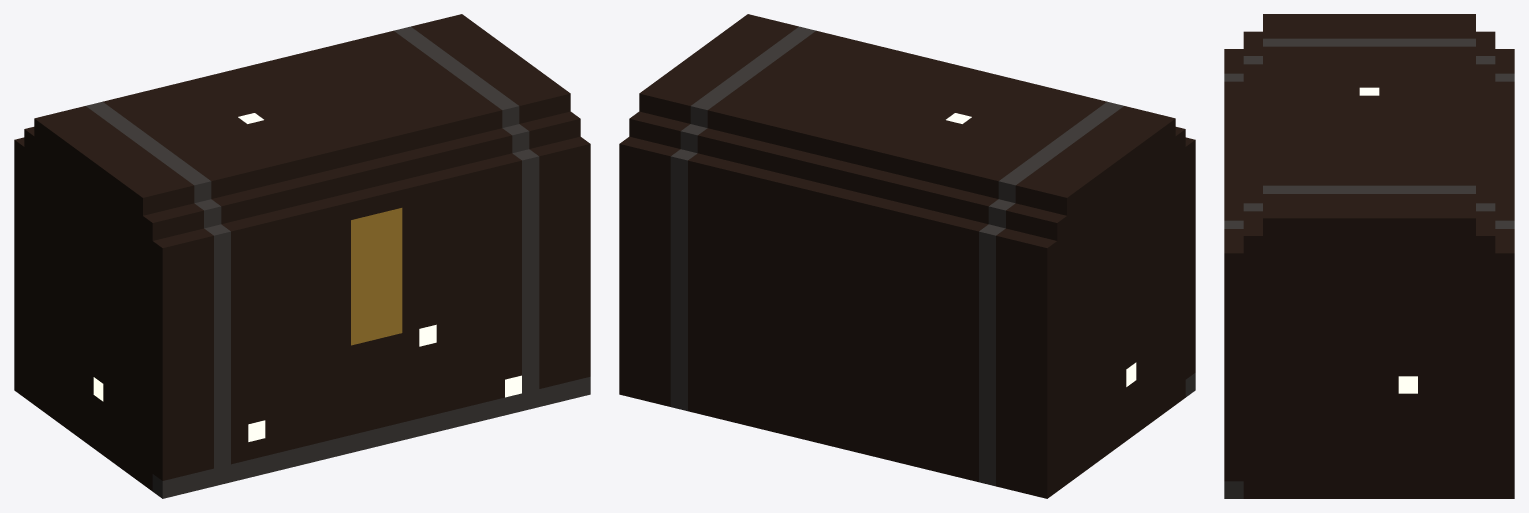
The model's file is scorched_chest.glb.
The picture shows the model from 3 angles, left to right: view 1: azimuth 30°, elevation 25°; view 2: azimuth 150°, elevation 25°; view 3: azimuth 270°, elevation 25°; orthographic projection. The views are drawn at different scales.
Parts seen in each view (by area): view 1: scorched_chest_lid, scorched_chest_base; view 2: scorched_chest_lid, scorched_chest_base; view 3: scorched_chest_lid, scorched_chest_base.
Boxes of the visible parts, x1=… form: scorched_chest_lid: x1=14, y1=14, x2=590, y2=319; scorched_chest_base: x1=14, y1=211, x2=590, y2=498; scorched_chest_lid: x1=619, y1=14, x2=1195, y2=319; scorched_chest_base: x1=619, y1=211, x2=1195, y2=498; scorched_chest_lid: x1=1224, y1=14, x2=1514, y2=323; scorched_chest_base: x1=1224, y1=323, x2=1514, y2=498.
Bounding box in the file's own units: 1 × 0.64 × 0.6.
